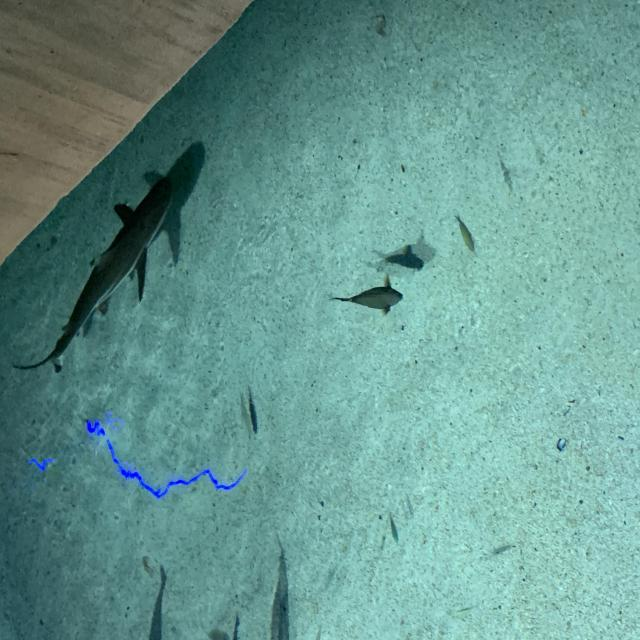fish: (328, 284, 402, 320), (268, 538, 293, 638), (143, 565, 173, 640), (378, 246, 426, 274), (242, 386, 263, 444), (453, 214, 479, 255), (498, 150, 518, 194), (386, 511, 402, 548), (232, 611, 242, 640)
shark: (52, 168, 176, 356)
